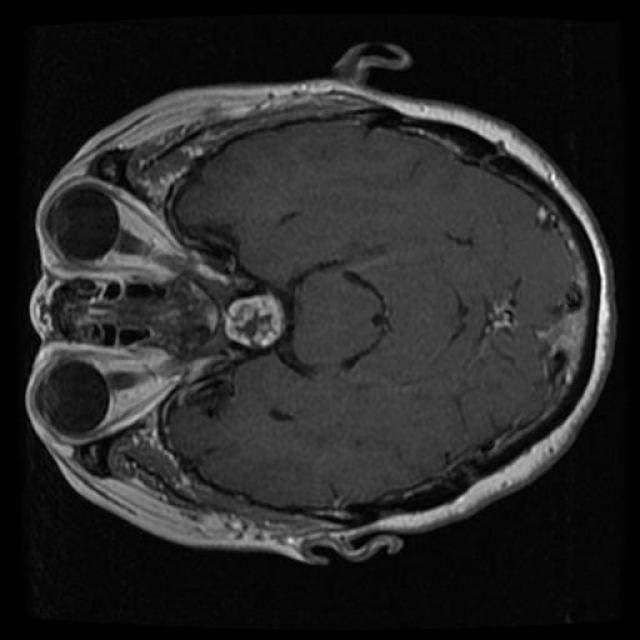Pituitary: (225, 293, 285, 349)
